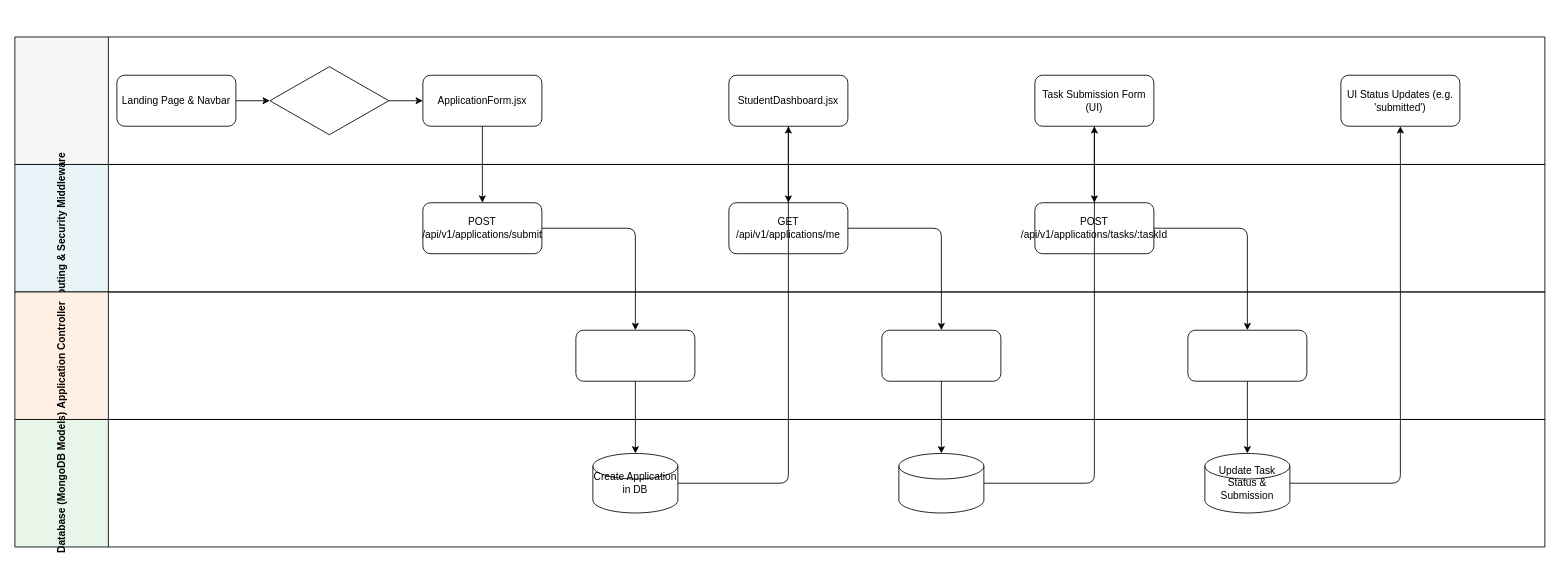
The diagram is 1560 pixels wide and 569 high, and some of its shapes have lost their labels. Each missing label, with the box of its shape:
Find Application by User ID: (898, 453, 984, 513)
Frontend (Pages & UI Components): (14, 36, 1545, 164)
getMyApplication(): (881, 329, 1001, 381)
Is Logged In & Student?: (269, 66, 389, 135)
submitApplication(): (575, 329, 695, 381)
submitTask(): (1187, 329, 1307, 381)
